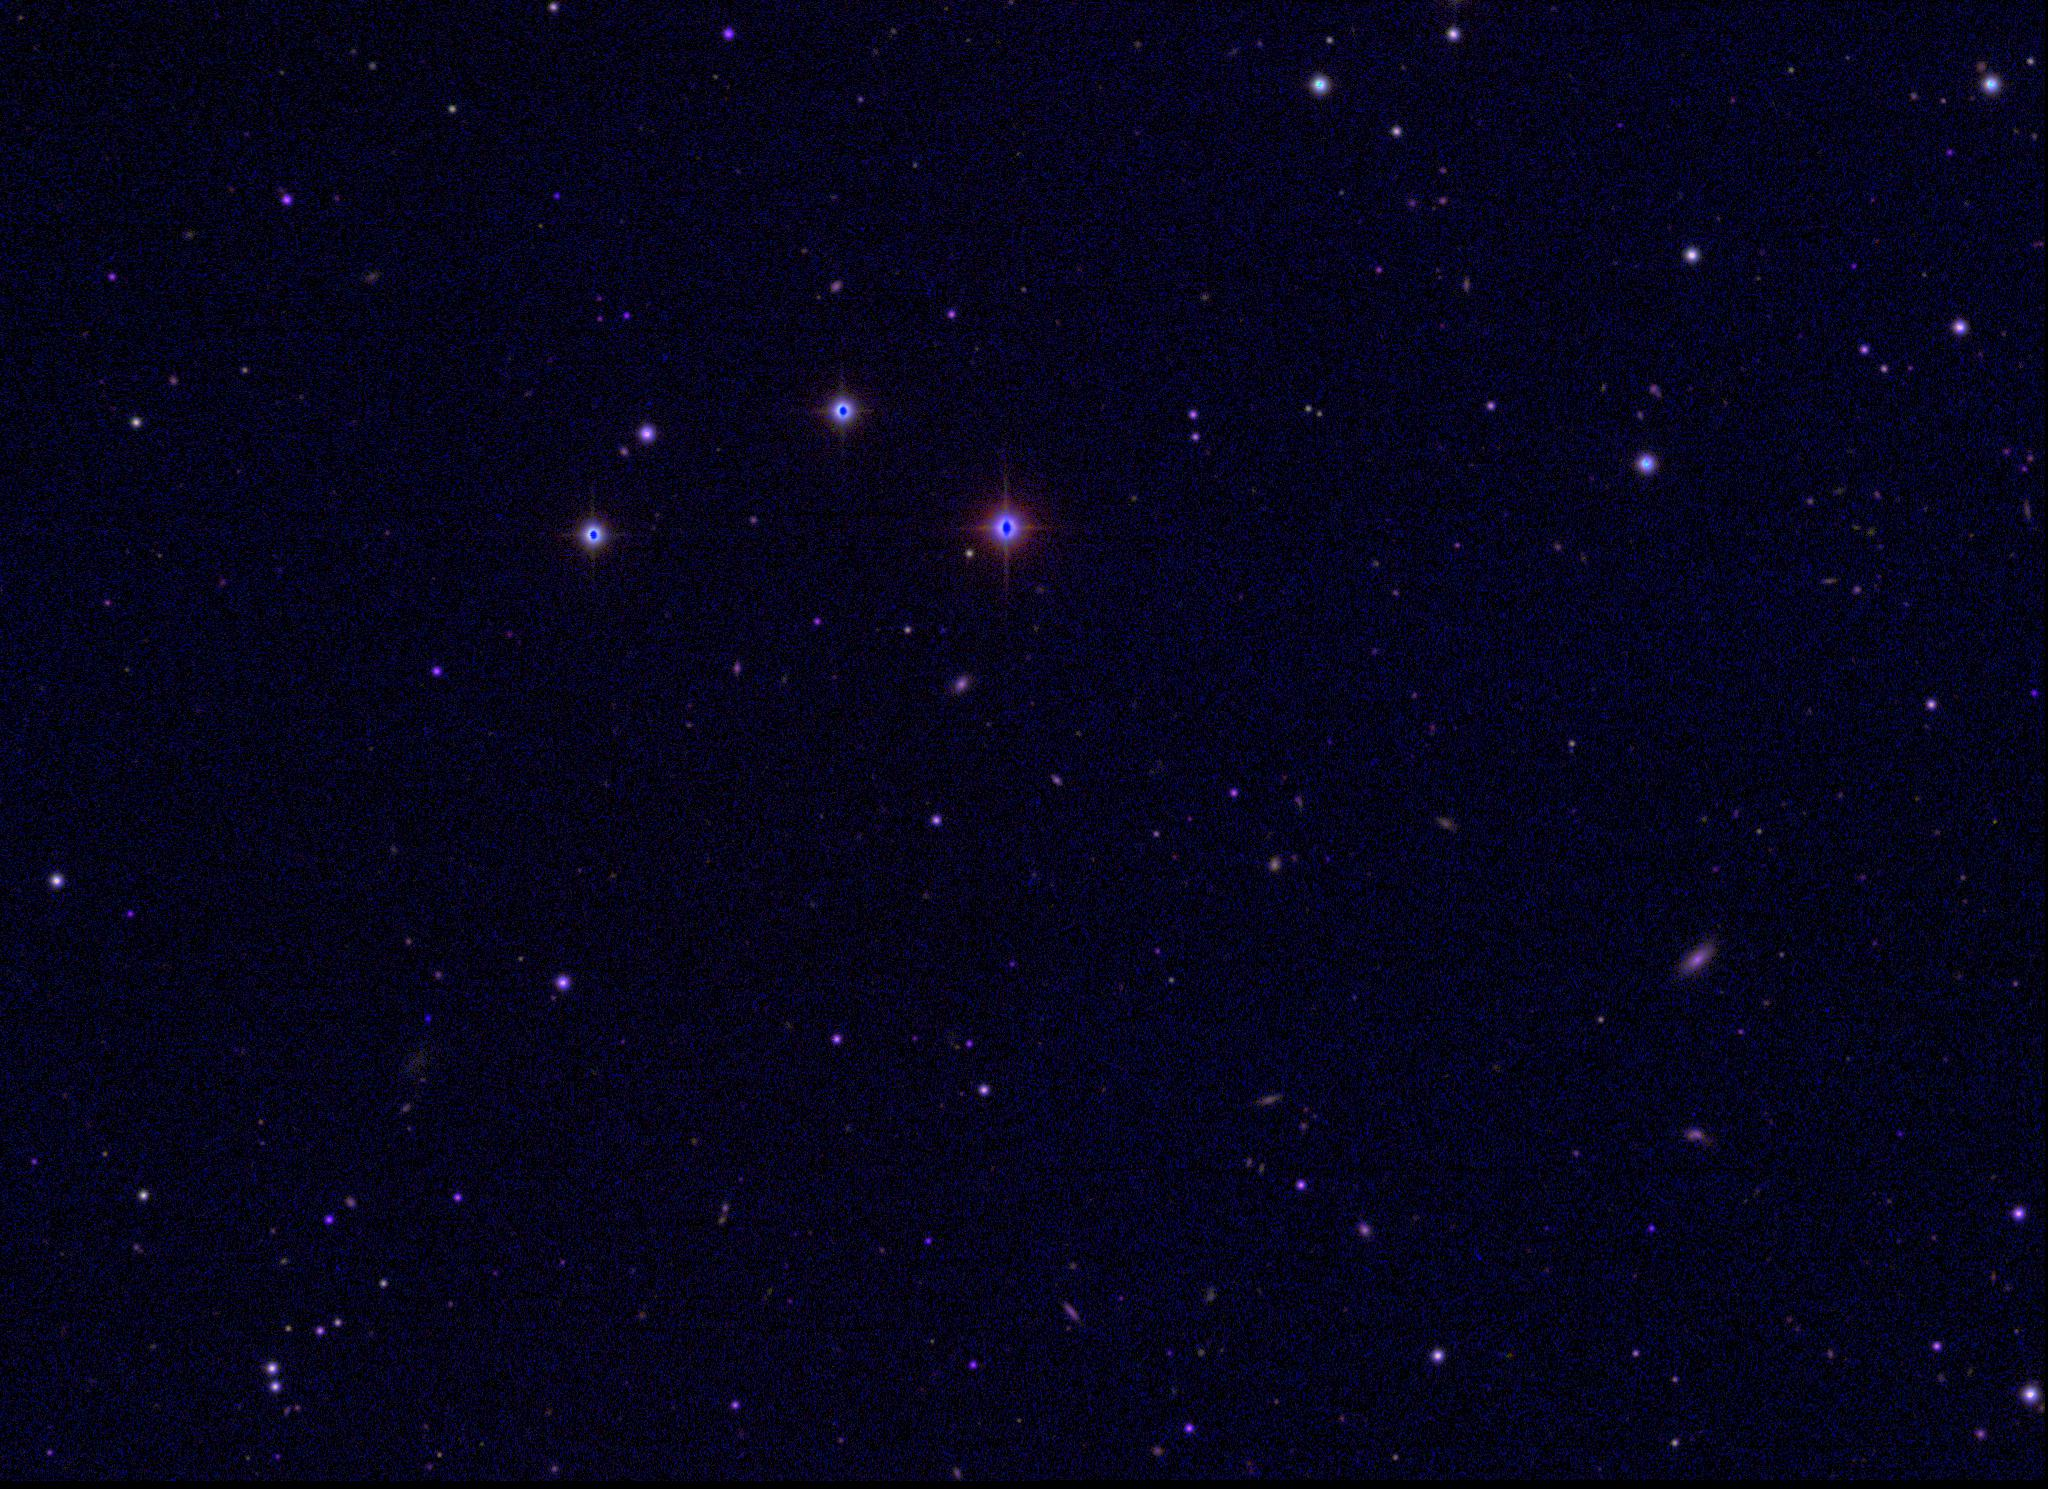L: (421, 1012, 436, 1026)
